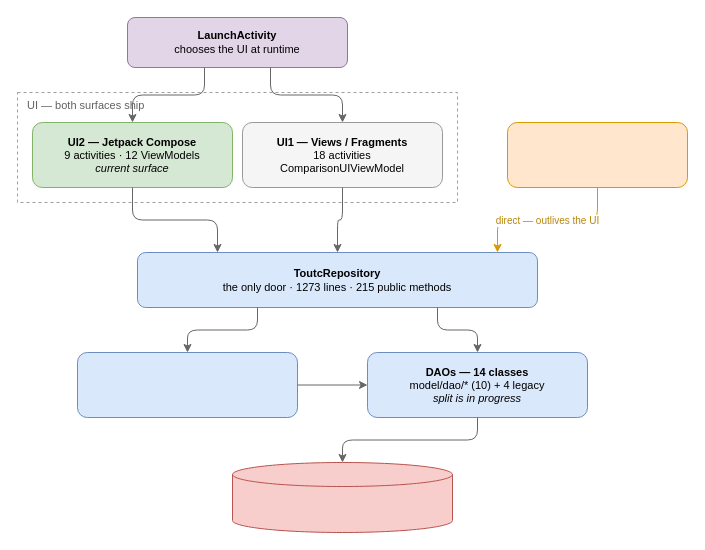
The diagram is 705 pixels wide and 550 high, and some of its shapes have lost their labels. The box of each missing label's shape, as (x1, y1, x2, y2) in pixels:
model/ops/* 10 composite operations multi-table logical acts: (76, 352, 298, 418)
Room / SQLite 37 tables · version 17: (232, 462, 452, 532)
Workers 27 classes WorkManager: (506, 122, 688, 188)
